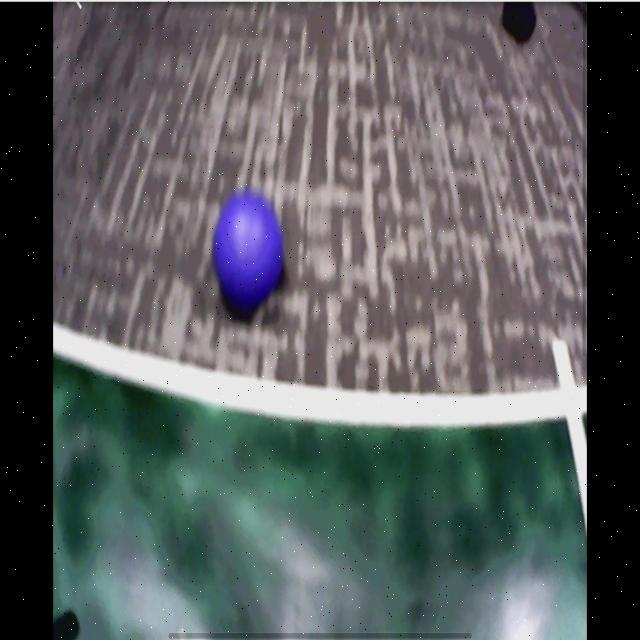ball: (214, 195, 285, 310)
